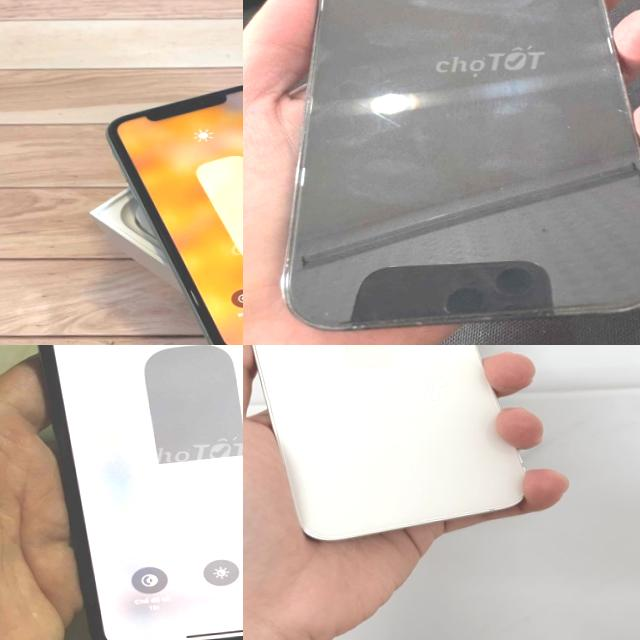physical_damage: (305, 68, 640, 283)
